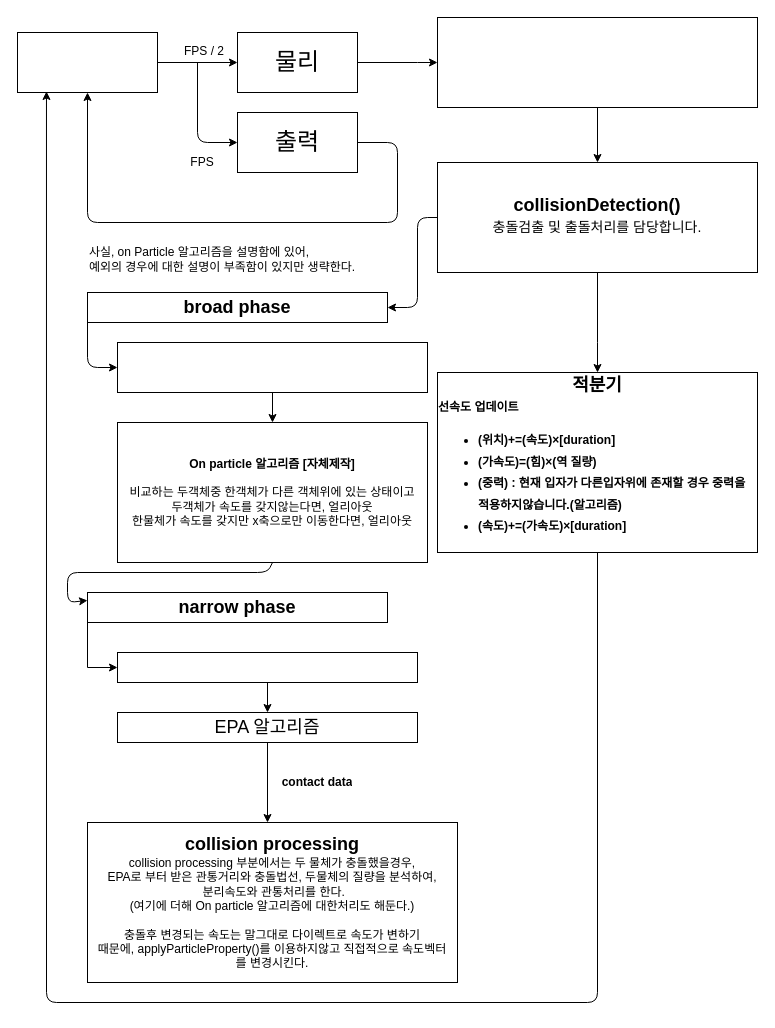
This 775x1028 diagram has some shape labels left out. The shapes that lost their labels are listed below. From the top down, each one's centre as x and y in pixels, then its label:
At point (87, 62): "gearSystem()".
At point (597, 62): "applyParticleProperty() .property()함수를 통해 변경된 속성은 저장된 후, 이 함수에서 일괄적으로 적용합니다.".
At point (272, 367): "AABB 충돌검사 CVSS에 계산되어 있는바운딩박스를 충돌검사합니다.".
At point (267, 667): "GJK 정밀 충돌검사".
